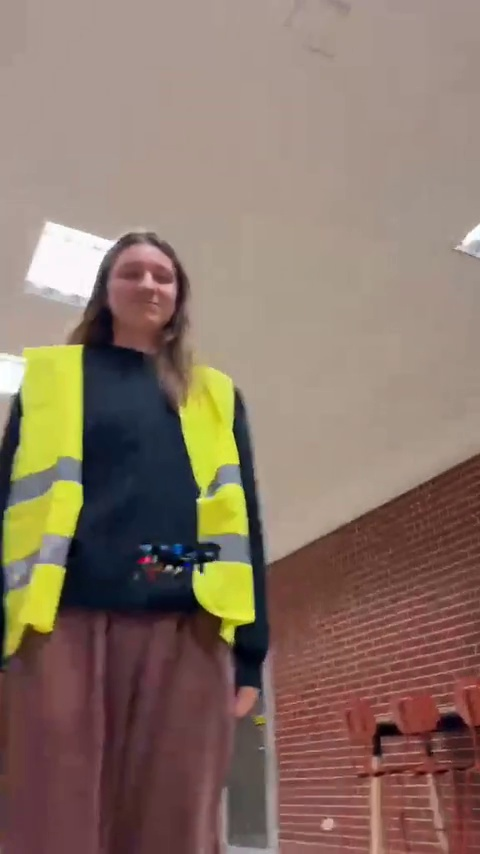drone: (123, 542, 222, 574)
vest: (6, 232, 268, 847)
